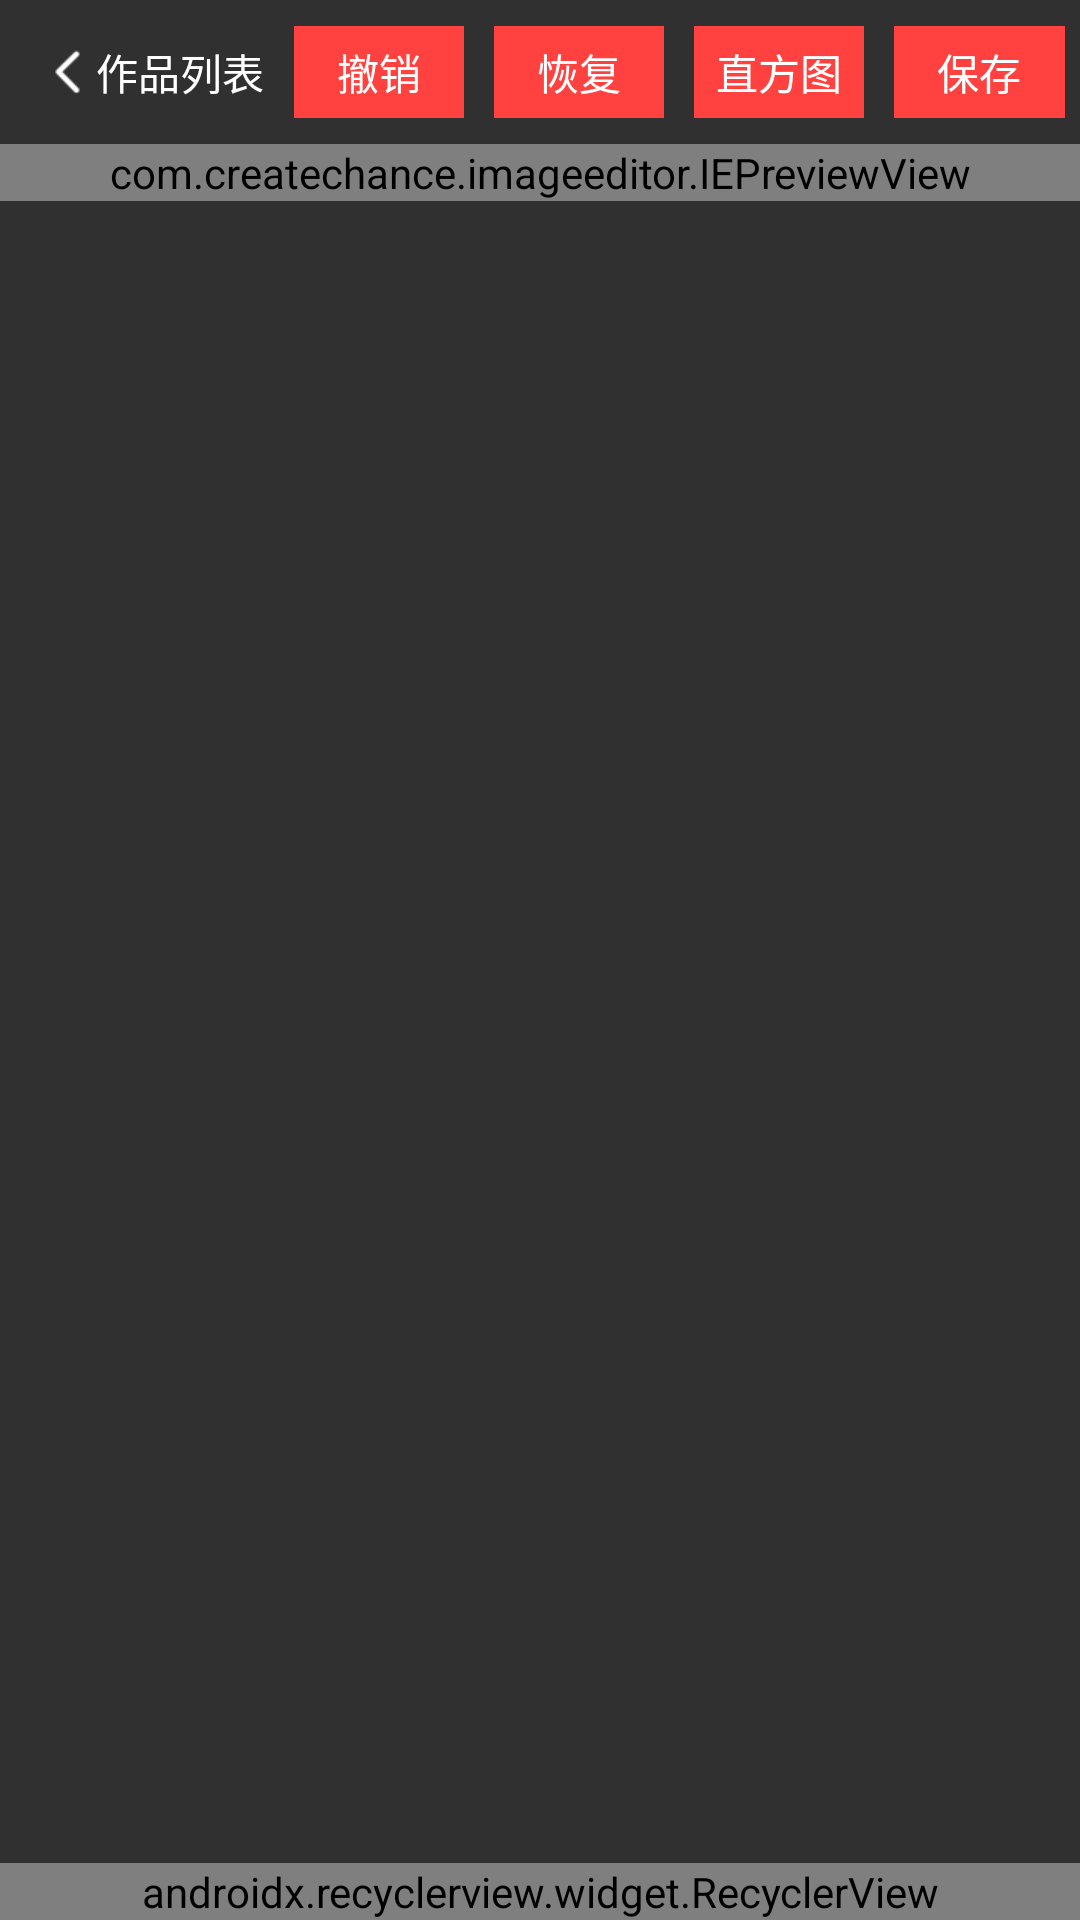

Screen size 1080 × 1920. Icon name, then its center in pixels as [x,y]:
pre: [67,71]
